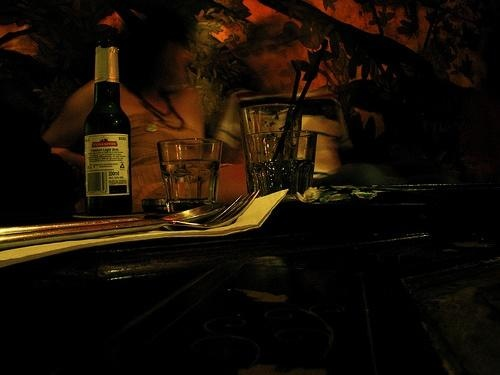bottle: (86, 39, 135, 215)
